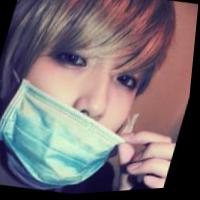WRONG: (1, 6, 177, 194)
